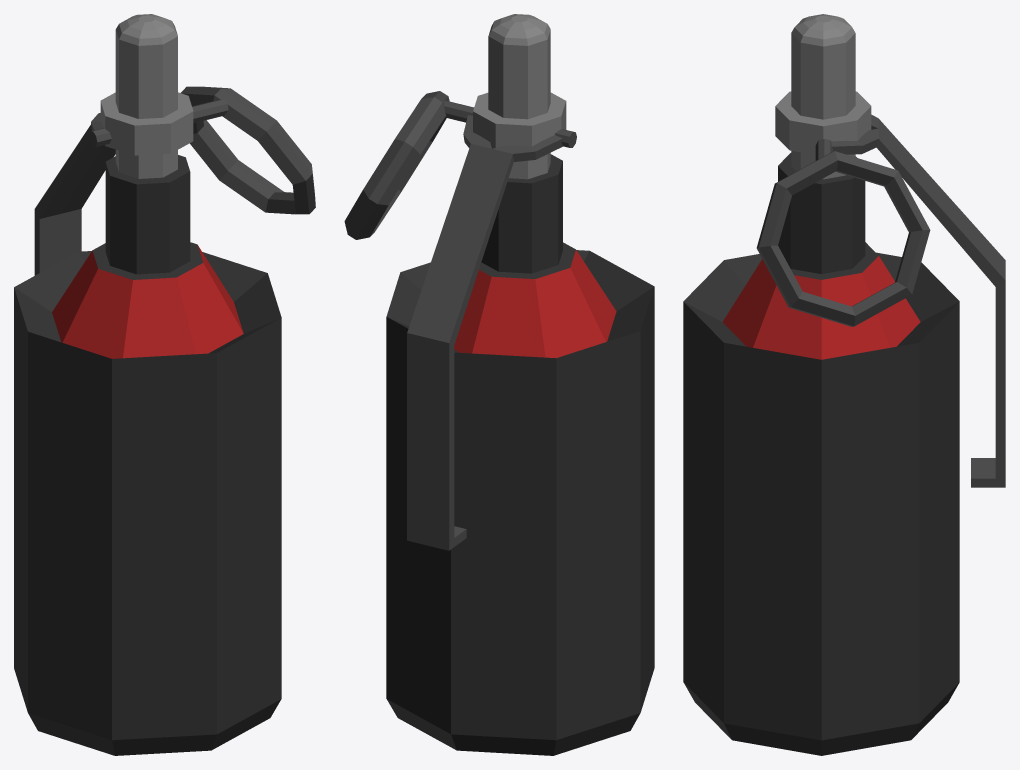
Rendered from Smoke Grenade East.glb.
3 renders of one model, left to right at view 1: azimuth 30°, elevation 25°; view 2: azimuth 150°, elevation 25°; view 3: azimuth 270°, elevation 25°, orthographic.
Parts seen in each view (by area): view 1: Smoke_East; view 2: Smoke_East; view 3: Smoke_East.
Part boxes in pixels (box(x1,y1,x2,y2)): Smoke_East: box(14, 14, 315, 755); Smoke_East: box(344, 14, 654, 755); Smoke_East: box(683, 14, 1005, 755).
Bounding box in the file's own units: 0.0637 × 0.1557 × 0.0646.
